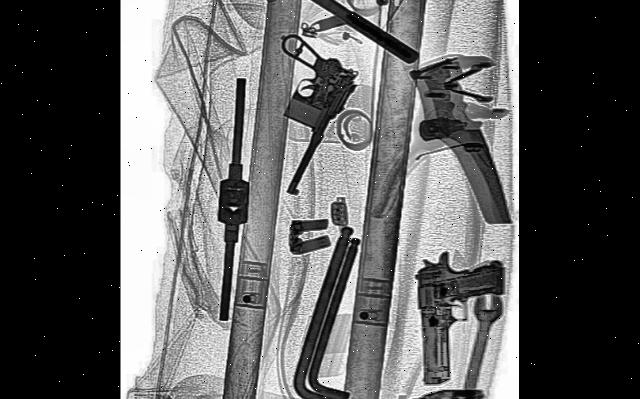Gun: (242, 0, 363, 209), (418, 239, 512, 386)
Pliers: (274, 365, 486, 399)
Wrench: (434, 279, 508, 399)
